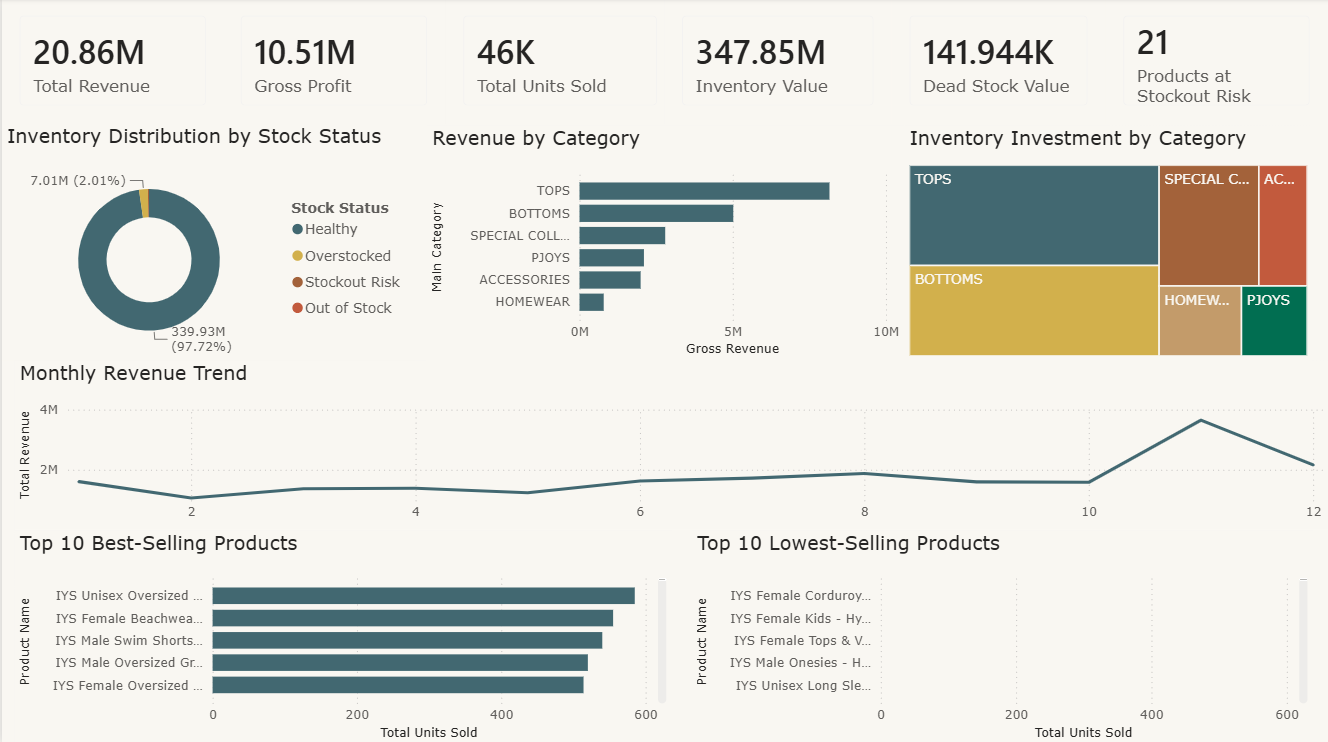

What the dashboard file says about the page in this screenshot:
{"tool":"powerbi","page":{"name":"Executive Summary","canvas":[1280,720],"ordinal":0},"visuals":[{"type":"cardVisual","fields":{"Data":["Measures 1.Total Revenue"]},"box":[0,0,214,121.9],"z":0},{"type":"cardVisual","fields":{"Data":["Measures 1.Gross Profit"]},"box":[214,0,214,121.9],"z":1000},{"type":"cardVisual","fields":{"Data":["Measures 1.Total Units Sold"]},"box":[428.1,0,221.8,121.9],"z":2000},{"type":"cardVisual","fields":{"Data":["Measures 1.Inventory Value"]},"box":[639.5,0,219.2,121.9],"z":3000},{"type":"cardVisual","fields":{"Data":["Measures 1.Dead Stock Value"]},"box":[858.7,0,206.2,121.9],"z":4000},{"type":"cardVisual","fields":{"Data":["Measures 1.Stockout Risk Products"]},"box":[1064.9,0,214,121.9],"z":5000},{"type":"donutChart","title":"Inventory Distribution by Stock Status","fields":{"Category":["Inventory_Snapshot.Stock_Status"],"Y":["Sum(Inventory_Snapshot.Inventory_Value)"]},"box":[0,121.9,398.2,228.3],"z":6000},{"type":"barChart","title":"Revenue by Category","fields":{"Category":["Products.Main_Category"],"Y":["Sum(Products.Gross_Revenue)"]},"box":[410.3,123.2,461.1,227.4],"z":7000},{"type":"lineChart","title":"Monthly Revenue Trend","fields":{"Category":["Calendar.Month"],"Y":["Sum(Sales_Transactions.Revenue)"]},"box":[11.7,350.2,1268.6,163.4],"z":8000},{"type":"treemap","title":"Inventory Investment by Category","fields":{"Values":["Sum(Inventory_Snapshot.Inventory_Value)"],"Group":["Products.Main_Category"]},"box":[871.5,123.2,393.8,227.4],"z":9000},{"type":"barChart","title":"Top 10 Best-Selling Products","fields":{"Y":["Sum(Products.Total_Units_Sold)"],"Category":["Products.Product_Name"]},"box":[11.7,513.7,634.3,206.2],"z":10000},{"type":"barChart","title":"Top 10 Lowest-Selling Products","fields":{"Y":["Sum(Products.Total_Units_Sold)"],"Category":["Products.Product_Name"]},"box":[665.4,513.7,599.3,206.2],"z":11000}]}

Visuals, with their boxes in screenshot pixels (x1, y1, x2, y2), scaled from the page's 1280x720 canvas onto the 1328x742 screenshot:
cardVisual - Measures 1.Total Revenue: left=0, top=0, right=222, bottom=126
cardVisual - Measures 1.Gross Profit: left=222, top=0, right=444, bottom=126
cardVisual - Measures 1.Total Units Sold: left=444, top=0, right=674, bottom=126
cardVisual - Measures 1.Inventory Value: left=663, top=0, right=891, bottom=126
cardVisual - Measures 1.Dead Stock Value: left=891, top=0, right=1105, bottom=126
cardVisual - Measures 1.Stockout Risk Products: left=1105, top=0, right=1327, bottom=126
"Inventory Distribution by Stock Status" donutChart: left=0, top=126, right=413, bottom=361
"Revenue by Category" barChart: left=426, top=127, right=904, bottom=361
"Monthly Revenue Trend" lineChart: left=12, top=361, right=1327, bottom=529
"Inventory Investment by Category" treemap: left=904, top=127, right=1313, bottom=361
"Top 10 Best-Selling Products" barChart: left=12, top=529, right=670, bottom=741
"Top 10 Lowest-Selling Products" barChart: left=690, top=529, right=1312, bottom=741
